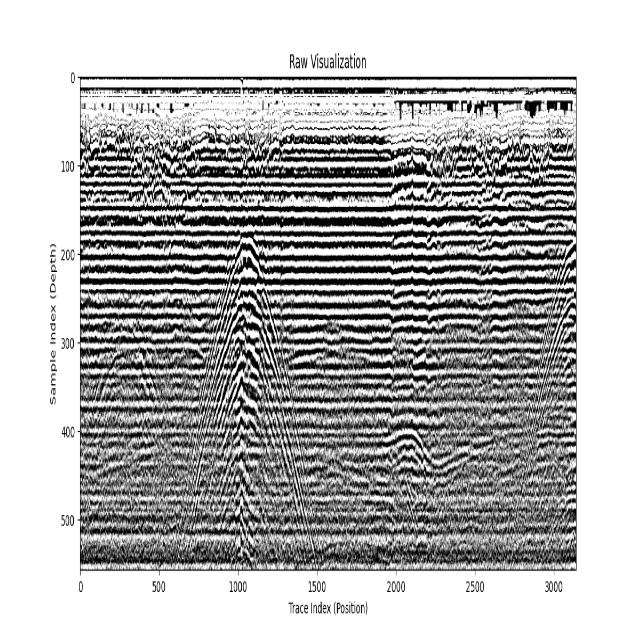anomaly: (169, 233, 331, 572), (499, 222, 574, 561), (77, 292, 172, 422), (373, 415, 497, 510)
